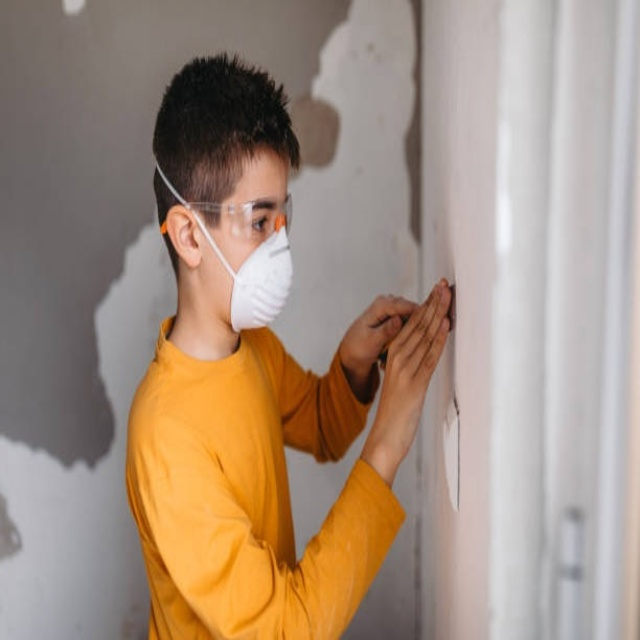Gafas: (157, 167, 294, 244)
Mascara: (225, 223, 297, 339)
Sin_guantes: (368, 275, 453, 463), (343, 287, 424, 375)
